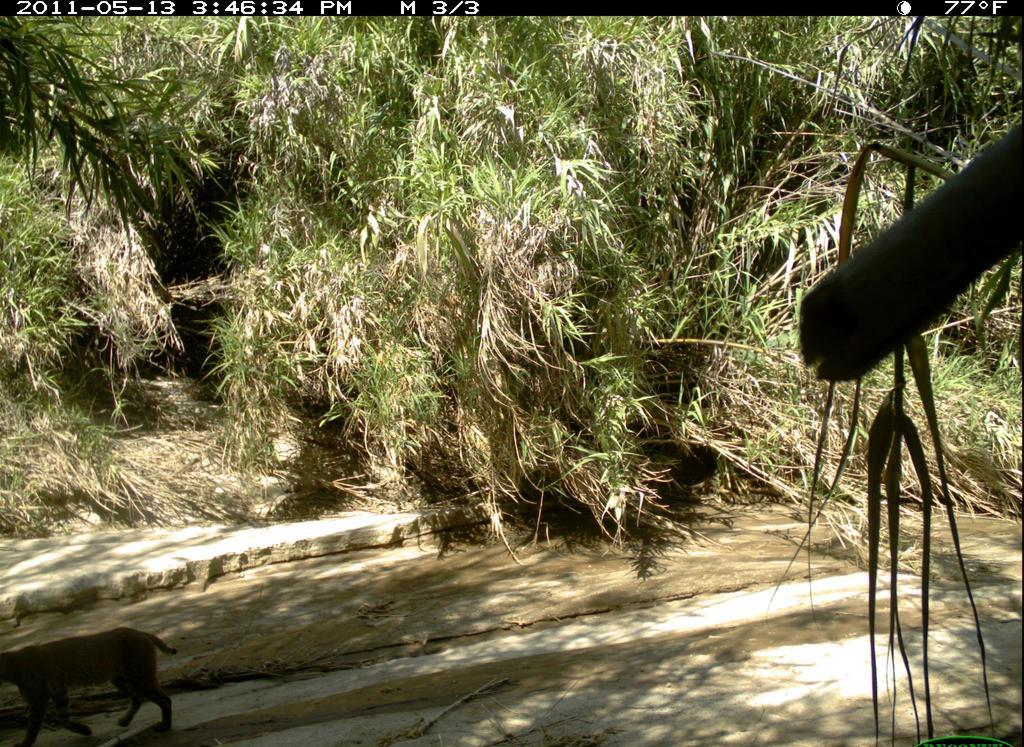bobcat: (4, 617, 189, 747)
